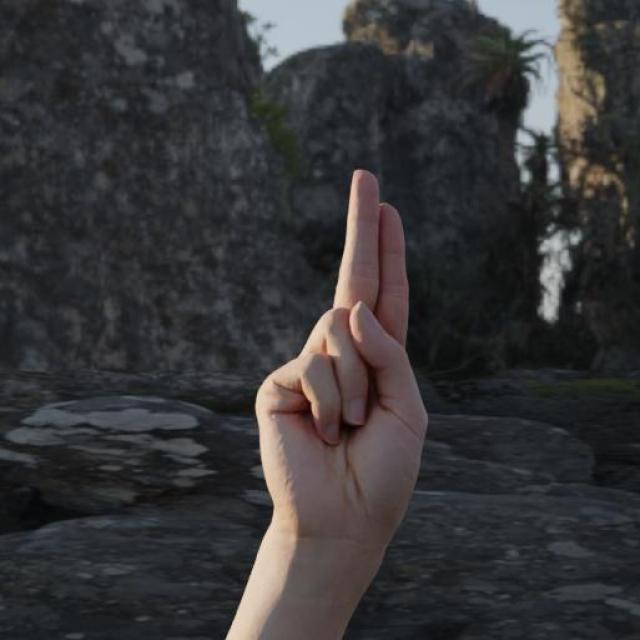U: (252, 164, 432, 545)
